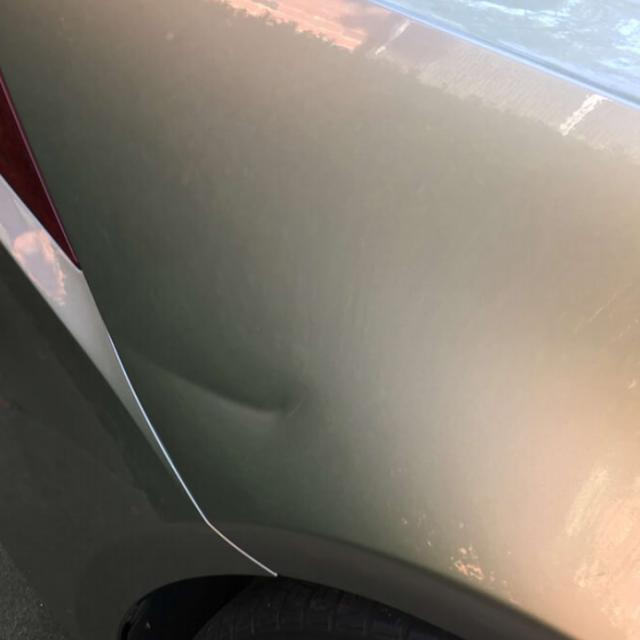dents: (121, 334, 339, 435)
